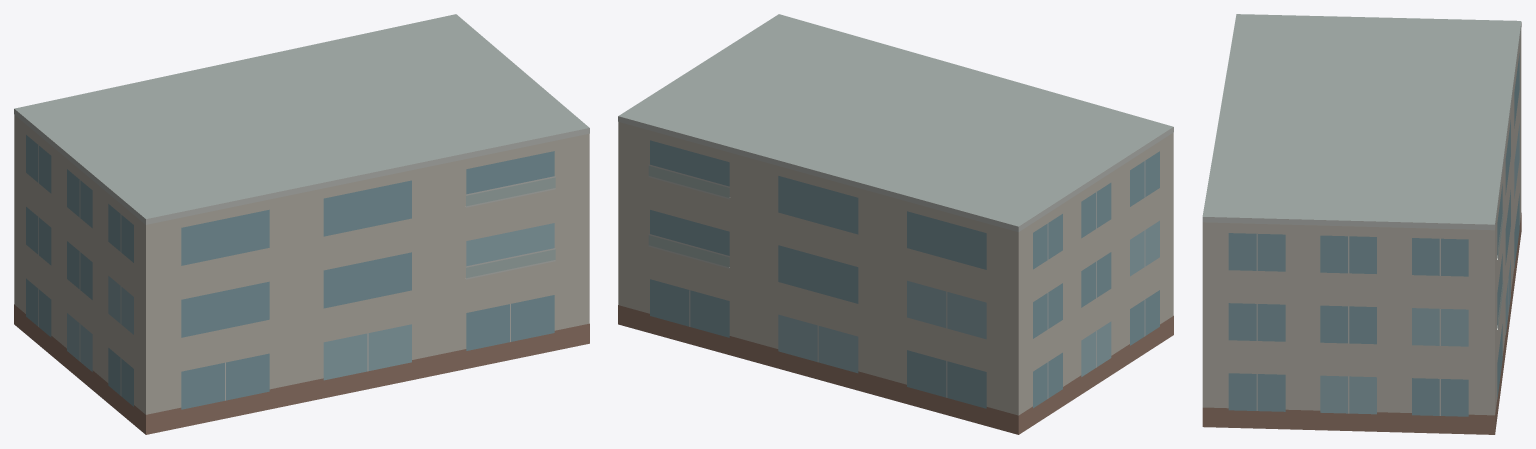
Rendered from survey-upis-32856989.glb.
3 renders of one model, left to right at view 1: azimuth 30°, elevation 25°; view 2: azimuth 150°, elevation 25°; view 3: azimuth 270°, elevation 25°, orthographic. The views are drawn at different scales.
Parts seen in each view (by area): view 1: survey-upis-32856989.tmp; view 2: survey-upis-32856989.tmp; view 3: survey-upis-32856989.tmp.
Boxes of the visible parts, x1,y1,x2,y2 form: survey-upis-32856989.tmp: (14,14,589,434); survey-upis-32856989.tmp: (618,14,1173,434); survey-upis-32856989.tmp: (1202,14,1521,434).
Bounding box in the file's own units: 19.67 × 9.15 × 12.59.
